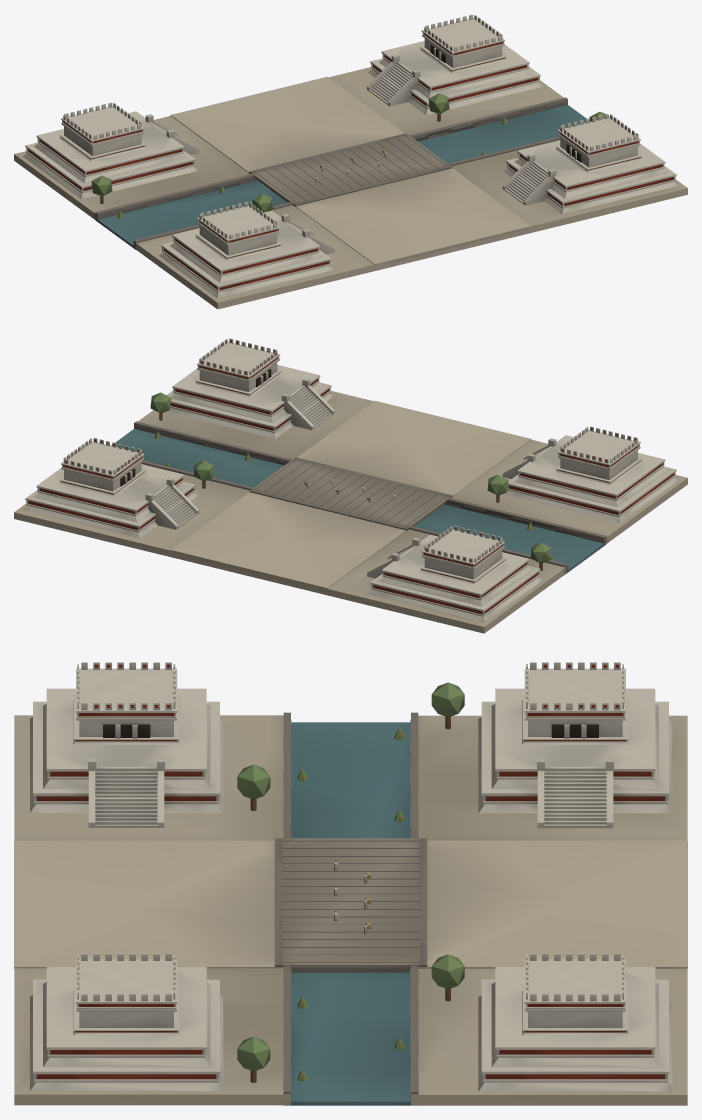
The model's file is san-juan-crossing.glb.
The picture shows the model from 3 angles, top to bottom: view 1: azimuth 30°, elevation 25°; view 2: azimuth 150°, elevation 25°; view 3: azimuth 270°, elevation 25°; orthographic projection. The views are drawn at different scales.
Parts seen in each view (by area): view 1: p2_crossing, p1_channel, p0_banks; view 2: p2_crossing, p1_channel, p0_banks; view 3: p2_crossing, p0_banks, p1_channel.
Part boxes in pixels (left/top/right/bottom): p2_crossing: left=23, top=14, right=678, bottom=298; p1_channel: left=95, top=76, right=567, bottom=264; p0_banks: left=14, top=67, right=687, bottom=309; p2_crossing: left=23, top=338, right=678, bottom=622; p1_channel: left=134, top=400, right=606, bottom=588; p0_banks: left=14, top=391, right=687, bottom=633; p2_crossing: left=30, top=662, right=672, bottom=1091; p0_banks: left=14, top=715, right=687, bottom=1105; p1_channel: left=14, top=712, right=687, bottom=1105.
Size of the model in its own units: 120 by 12.99 by 90.09.
